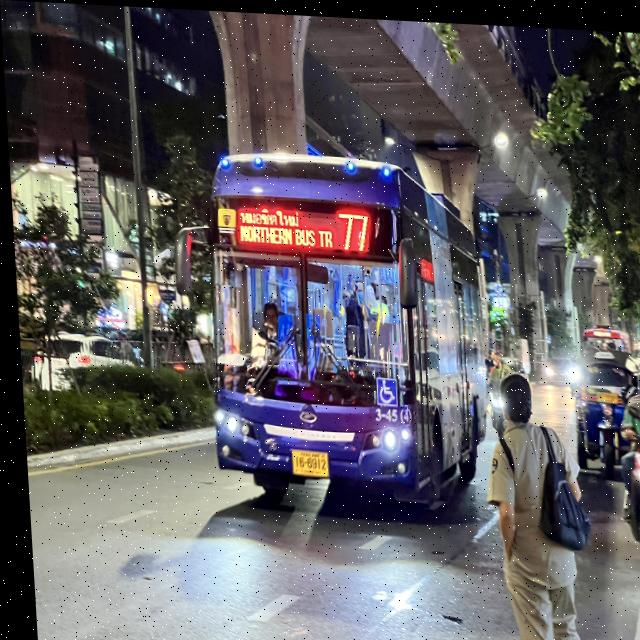Bus Line Number: (331, 207, 371, 250)
Bus Side Number: (367, 403, 407, 421)
Destination Sign: (232, 204, 332, 251)
TSB-Bus: (193, 143, 494, 510)
